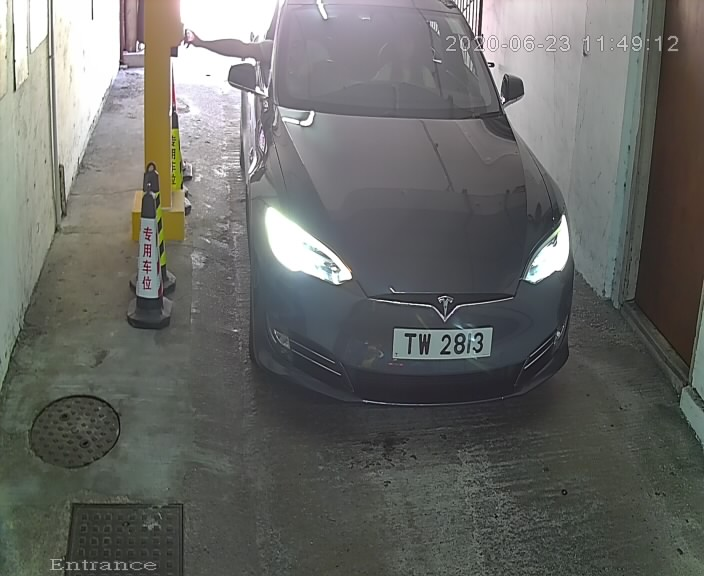privatecar: (200, 1, 615, 432)
